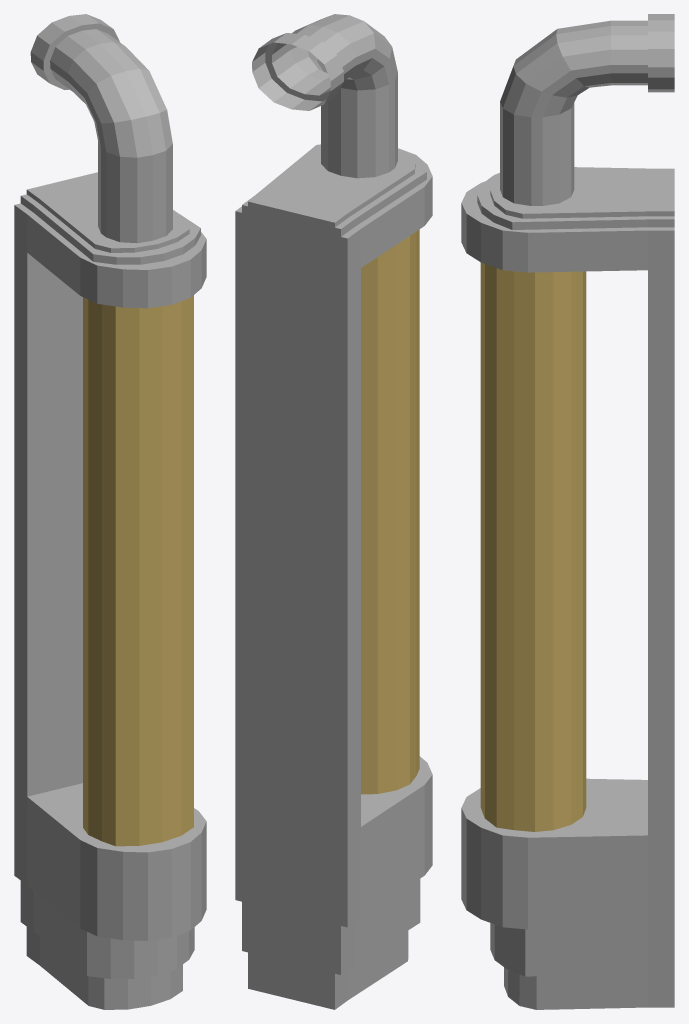
File: applique_neon.fbx
3 views of the same model, side by side, from view 1: azimuth 30°, elevation 25°; view 2: azimuth 150°, elevation 25°; view 3: azimuth 270°, elevation 25° (orthographic). The views are drawn at different scales.
Parts seen in each view (by area): view 1: Cylinder; view 2: Cylinder; view 3: Cylinder.
Part boxes in pixels (x1,y1,x2,y2): Cylinder: (14, 14, 206, 1009); Cylinder: (235, 14, 432, 1009); Cylinder: (461, 14, 674, 1009).
Size of the model in its own units: 0.008 by 0.06 by 0.012.
